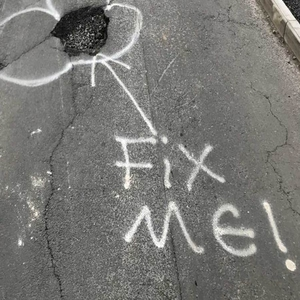pothole: (48, 2, 112, 58)
